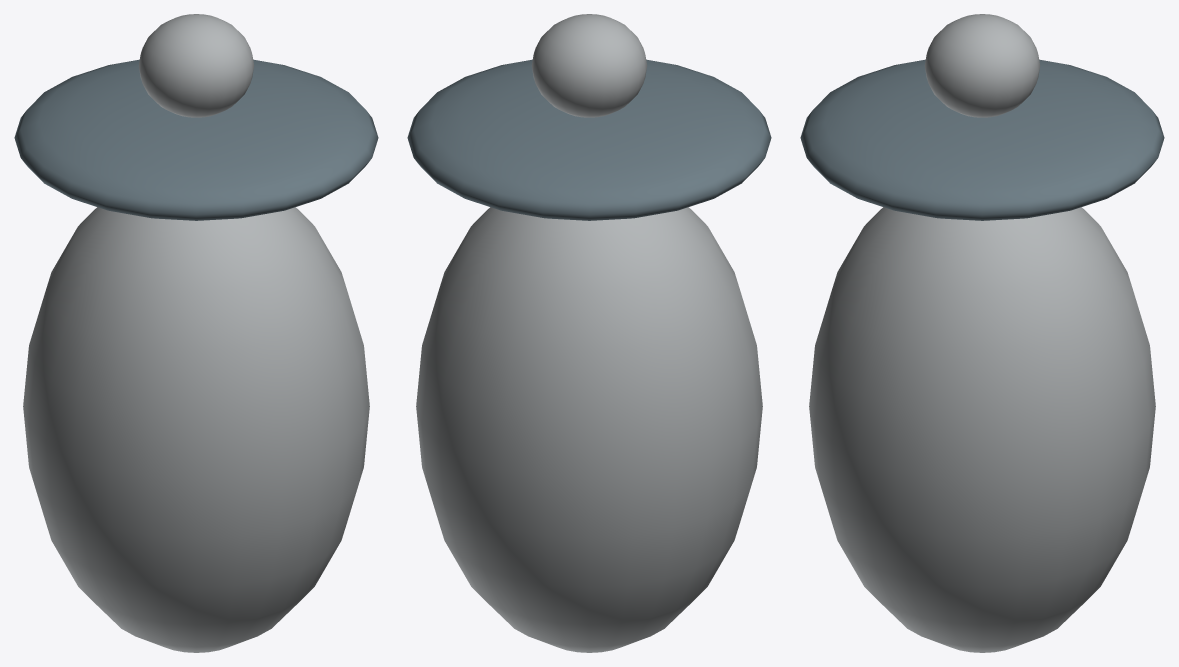
Rendered from bottle.fbx.
3 views of the same model, side by side, from view 1: azimuth 30°, elevation 25°; view 2: azimuth 150°, elevation 25°; view 3: azimuth 270°, elevation 25° (orthographic).
Parts seen in each view (by area): view 1: RoomR1_BottleBody_Runtime, RoomR1_BottleRing_Runtime, RoomR1_BottleNipple_Runtime; view 2: RoomR1_BottleBody_Runtime, RoomR1_BottleRing_Runtime, RoomR1_BottleNipple_Runtime; view 3: RoomR1_BottleBody_Runtime, RoomR1_BottleRing_Runtime, RoomR1_BottleNipple_Runtime.
Boxes of the visible parts, left/top/right/bottom form: RoomR1_BottleBody_Runtime: left=23, top=207, right=369, bottom=652; RoomR1_BottleRing_Runtime: left=14, top=59, right=378, bottom=220; RoomR1_BottleNipple_Runtime: left=138, top=14, right=254, bottom=117; RoomR1_BottleBody_Runtime: left=416, top=207, right=762, bottom=652; RoomR1_BottleRing_Runtime: left=407, top=59, right=771, bottom=220; RoomR1_BottleNipple_Runtime: left=531, top=14, right=647, bottom=117; RoomR1_BottleBody_Runtime: left=809, top=207, right=1155, bottom=652; RoomR1_BottleRing_Runtime: left=800, top=59, right=1164, bottom=220; RoomR1_BottleNipple_Runtime: left=924, top=14, right=1040, bottom=117.
Size of the model in its own units: 12.6 by 23.75 by 12.6.
